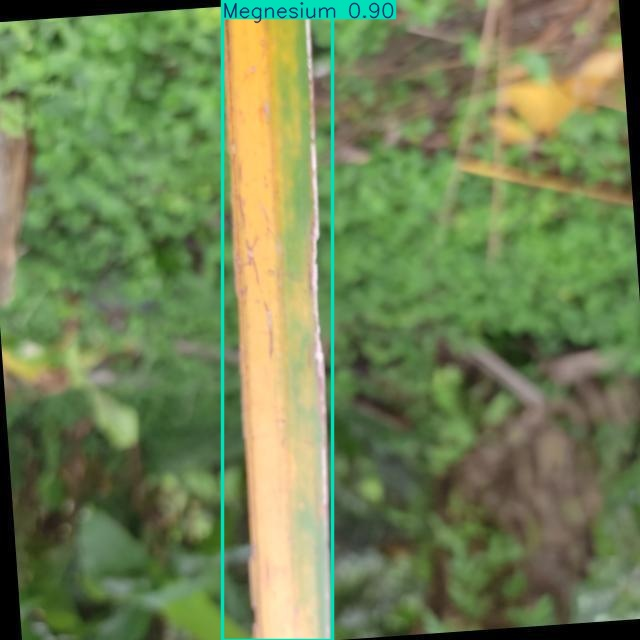Megnesium: (222, 0, 333, 640)
